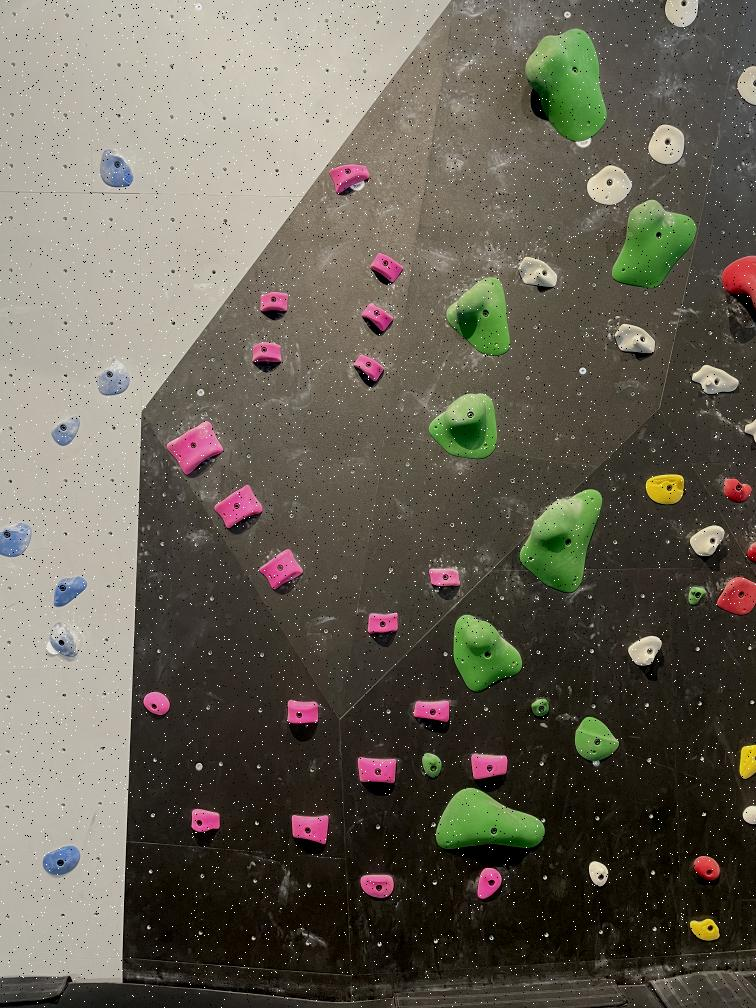Crimp: (91, 357, 136, 395), (98, 146, 138, 188), (1, 523, 37, 558), (358, 870, 397, 900), (50, 414, 83, 449), (49, 576, 87, 605), (477, 866, 505, 900), (140, 689, 172, 717), (722, 477, 753, 503)
Edges: (575, 715, 618, 764)
Foothold: (690, 916, 724, 942), (692, 858, 722, 881), (421, 752, 445, 780), (587, 858, 608, 888), (529, 700, 555, 718)
Jug: (525, 30, 614, 140), (588, 163, 636, 202), (691, 363, 740, 397), (518, 255, 560, 291), (612, 322, 656, 356), (648, 126, 688, 163), (628, 630, 662, 670), (646, 472, 688, 504), (690, 521, 726, 558)
Pinch: (163, 422, 231, 472), (256, 550, 308, 588), (215, 488, 267, 526), (354, 749, 398, 788), (45, 621, 82, 662), (43, 841, 83, 878), (328, 162, 374, 193), (289, 813, 329, 846), (368, 253, 407, 284), (351, 351, 385, 384), (287, 698, 322, 727), (186, 809, 226, 834), (361, 302, 395, 331), (250, 342, 288, 367), (412, 699, 453, 722), (366, 610, 400, 637), (256, 289, 294, 313), (471, 755, 506, 778), (431, 568, 463, 586)
Sloper: (518, 490, 604, 586), (429, 789, 551, 851), (617, 203, 692, 286), (449, 615, 526, 693), (449, 278, 513, 361), (431, 393, 503, 456)
